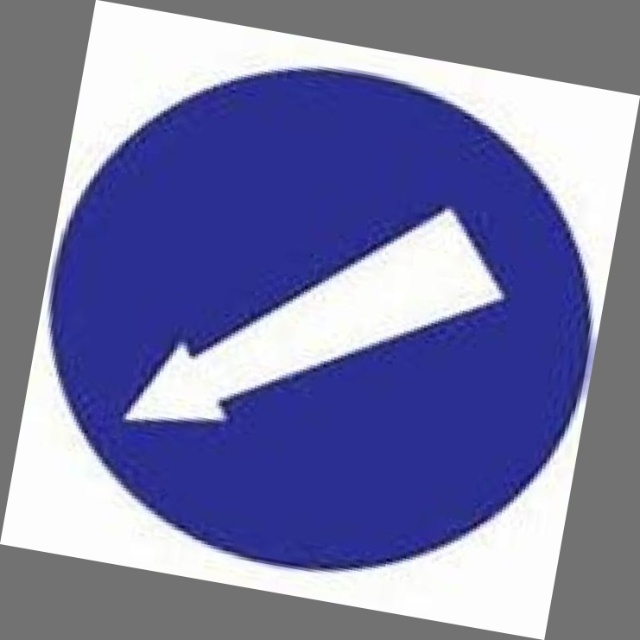R.301e: (7, 18, 634, 617)
